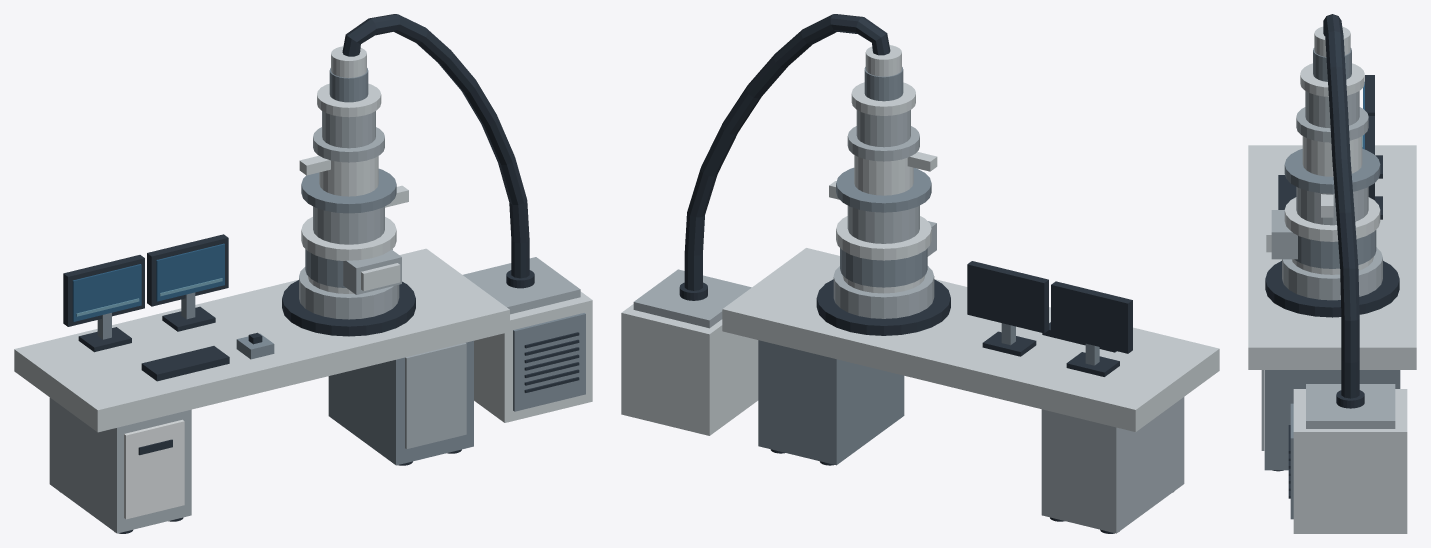
File: sem-200.glb
The picture shows the model from 3 angles, left to right: view 1: azimuth 30°, elevation 25°; view 2: azimuth 150°, elevation 25°; view 3: azimuth 270°, elevation 25°; orthographic projection.
Parts seen in each view (by area): view 1: Схематичная модель SEM-200; view 2: Схематичная модель SEM-200; view 3: Схематичная модель SEM-200.
Boxes of the visible parts, box(x1,y1,x2,y2) form: Схематичная модель SEM-200: box(14, 14, 592, 533); Схематичная модель SEM-200: box(621, 14, 1219, 533); Схематичная модель SEM-200: box(1248, 14, 1416, 533).
Bounding box in the file's own units: 4.64 × 3.64 × 1.3.
